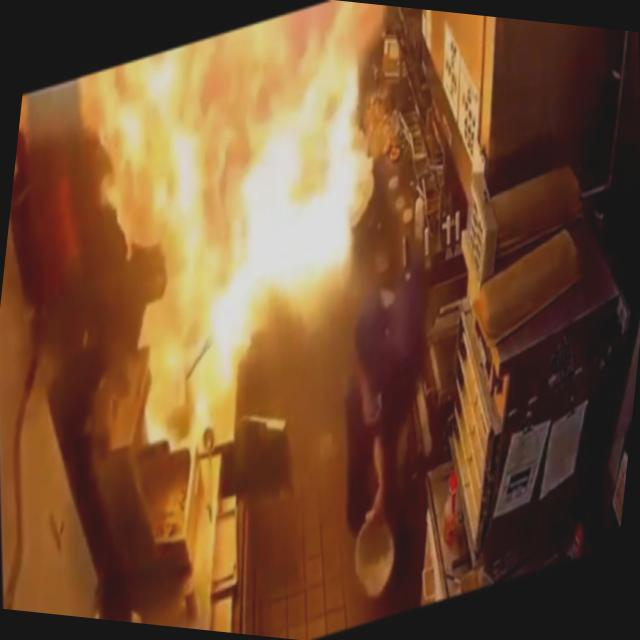fire: (9, 0, 440, 501)
